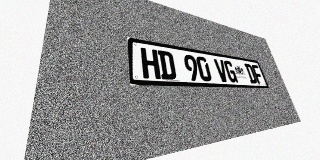0: (195, 56, 212, 81)
9: (183, 54, 201, 81)
D: (157, 50, 177, 80), (244, 63, 258, 84)
F: (251, 64, 264, 84)
G: (223, 60, 238, 83)
H: (140, 47, 161, 79)
V: (213, 59, 229, 82)
